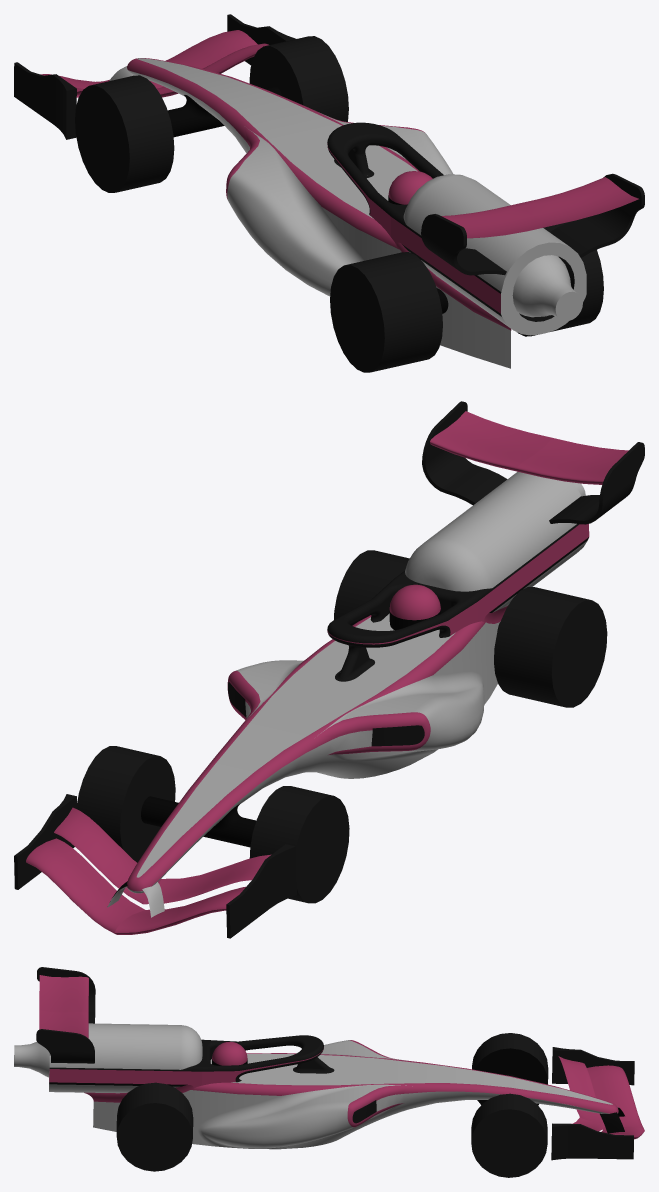
File: hermesCarLatest.glb
3 renders of one model, top to bottom at view 1: azimuth 30°, elevation 25°; view 2: azimuth 150°, elevation 25°; view 3: azimuth 270°, elevation 25°, orthographic. The views are drawn at different scales.
Visible parts, largest first — view 1: Body2_face229.001; view 2: Body2_face229.001; view 3: Body2_face229.001.
Part boxes in pixels (box(x1,y1,x2,y2)): Body2_face229.001: box(14, 14, 644, 372); Body2_face229.001: box(14, 401, 644, 938); Body2_face229.001: box(14, 967, 644, 1177).
Size of the model in its own units: 0.9377 by 0.8083 by 3.21.
Materials: 2 (1 with a texture image).
